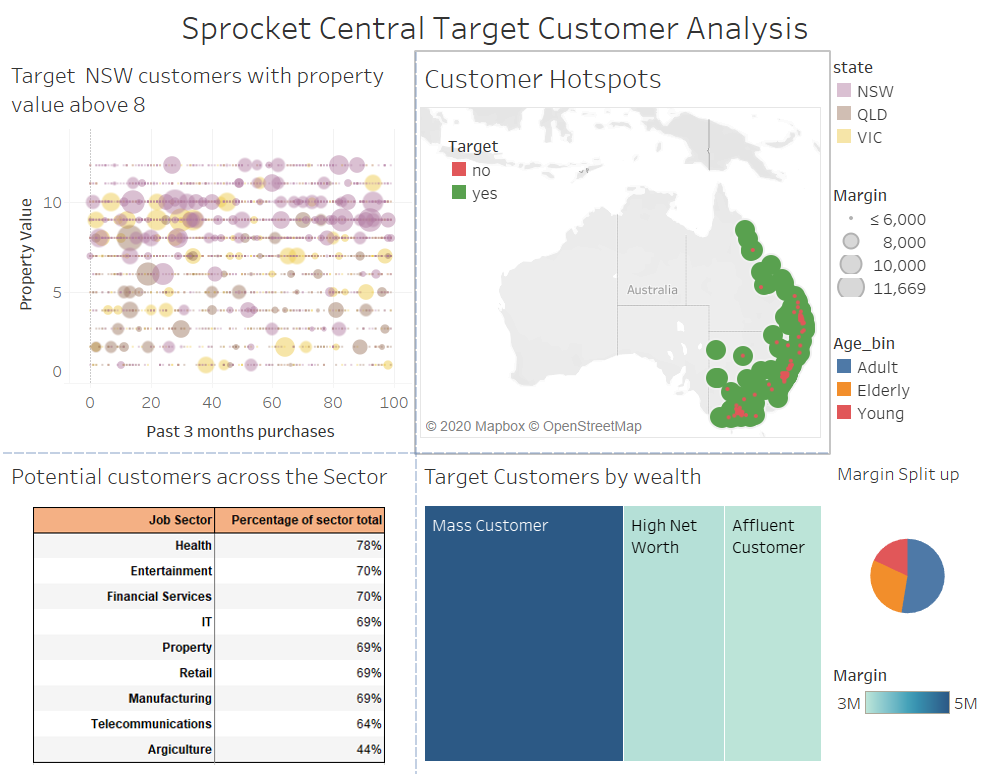

What the dashboard file says about the page in this screenshot:
{"tool":"tableau","page":{"name":"Dashboard 1","canvas":[1000,800],"ordinal":0},"visuals":[{"type":"title","box":[8,8,984,51]},{"type":"worksheet","title":"Sheet 1","mark":"Automatic","rows":["property_valuation"],"cols":["past_3_years_bike_related_purchases"],"box":[8,59,413,401]},{"type":"worksheet","title":"Sheet 2","mark":"Automatic","box":[421,59,413,401]},{"type":"legend","title":"Sheet 1","param":"[federated.1yeg41g1is74ce11t47u61y6ddco].[none:state:nk]","box":[834,59,158,128]},{"type":"legend","title":"Sheet 2","param":"[federated.1av6r0c1vkxf3p1drwdoz1m0ug43].[none:Target:nk]","box":[453,142,140,69]},{"type":"legend","title":"Sheet 1","param":"[federated.1yeg41g1is74ce11t47u61y6ddco].[sum:Margin:qk]","box":[834,187,158,148]},{"type":"legend","title":"Sheet 5","param":"[federated.1yeg41g1is74ce11t47u61y6ddco].[none:Calculation_1232578982725558273:n","box":[834,335,158,100]},{"type":"worksheet","title":"Sheet 3","mark":"Bar","box":[8,460,413,332]},{"type":"worksheet","title":"Sheet 4","mark":"Automatic","box":[421,460,413,332]},{"type":"worksheet","title":"Sheet 5","mark":"Pie","box":[834,460,158,207]},{"type":"image","param":"C:/Users/sesha/OneDrive/Desktop/Untitled.png","box":[38,514,378,258]},{"type":"legend","title":"Sheet 4","param":"[federated.1yeg41g1is74ce11t47u61y6ddco].[sum:Margin:qk]","box":[834,667,158,76]}]}

Visuals, with their boxes in screenshot pixels (x1, y1, x2, y2), scaled from the page's 1000x800 canvas onto the 986x774 screenshot:
title: <region>8, 8, 978, 57</region>
"Sheet 1" worksheet: <region>8, 57, 415, 445</region>
"Sheet 2" worksheet: <region>415, 57, 822, 445</region>
"Sheet 1" legend: <region>822, 57, 978, 181</region>
"Sheet 2" legend: <region>447, 137, 585, 204</region>
"Sheet 1" legend: <region>822, 181, 978, 324</region>
"Sheet 5" legend: <region>822, 324, 978, 421</region>
"Sheet 3" worksheet (Bar marks): <region>8, 445, 415, 766</region>
"Sheet 4" worksheet: <region>415, 445, 822, 766</region>
"Sheet 5" worksheet (Pie marks): <region>822, 445, 978, 645</region>
image: <region>37, 497, 410, 747</region>
"Sheet 4" legend: <region>822, 645, 978, 719</region>
